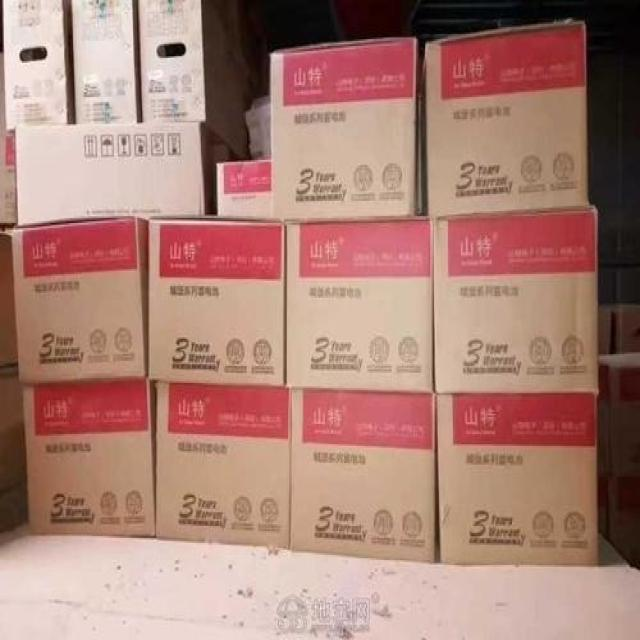box: (417, 19, 590, 214), (430, 204, 600, 397), (437, 393, 602, 565), (286, 385, 439, 563), (271, 39, 417, 219), (285, 214, 434, 389), (16, 121, 248, 225), (144, 219, 286, 387), (7, 221, 148, 381), (156, 378, 291, 545), (21, 378, 157, 535), (2, 3, 76, 126), (68, 1, 141, 124), (596, 349, 638, 476), (0, 372, 29, 530), (0, 2, 18, 228), (602, 473, 639, 572), (219, 158, 273, 217), (1, 223, 18, 374), (613, 303, 639, 351), (599, 207, 621, 263), (620, 206, 639, 266), (617, 264, 639, 305), (602, 264, 617, 307), (602, 305, 614, 358)
